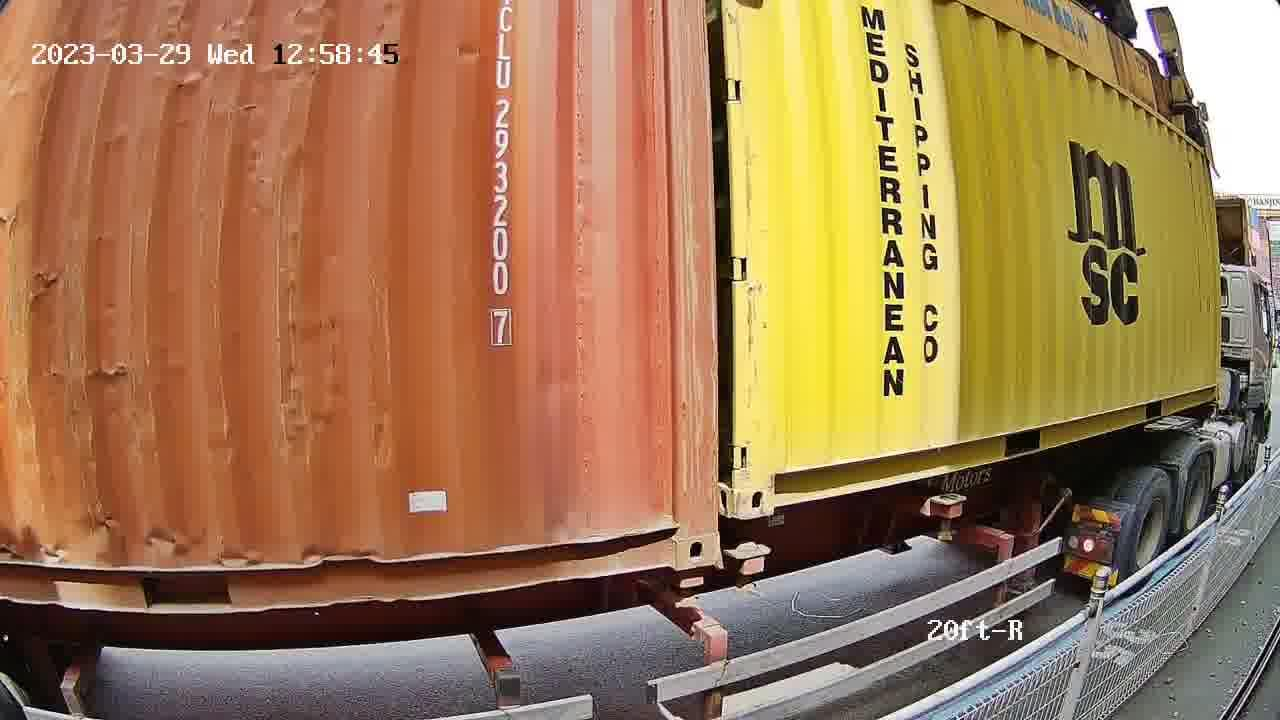Cone: (723, 536, 774, 596), (664, 568, 708, 615)
Hole_L: (735, 436, 810, 519)
Hole_R: (627, 494, 719, 572)
Tire: (1118, 471, 1175, 588), (1178, 446, 1215, 548)
